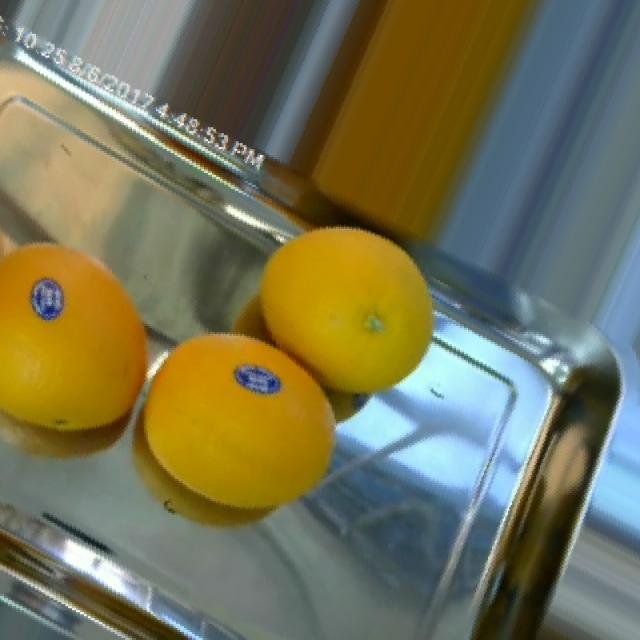Fruit: (24, 264, 73, 334)
